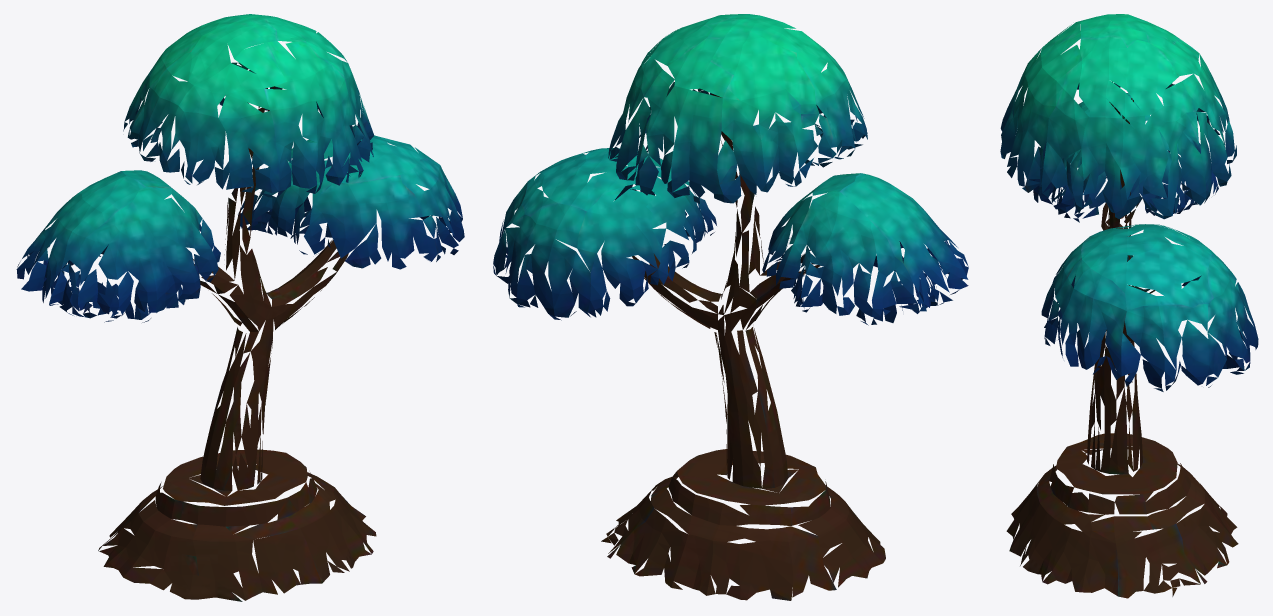
File: familiarity_tree-2.glb
3 renders of one model, left to right at view 1: azimuth 30°, elevation 25°; view 2: azimuth 150°, elevation 25°; view 3: azimuth 270°, elevation 25°, orthographic.
Visible parts, largest first — view 1: world.001; view 2: world.001; view 3: world.001.
Boxes of the visible parts, x1=… form: world.001: x1=16, y1=14, x2=464, y2=601; world.001: x1=493, y1=14, x2=968, y2=600; world.001: x1=1000, y1=14, x2=1258, y2=598.
Size of the model in its own units: 0.8658 by 0.9977 by 0.4548.
1 material, 1 textured.
